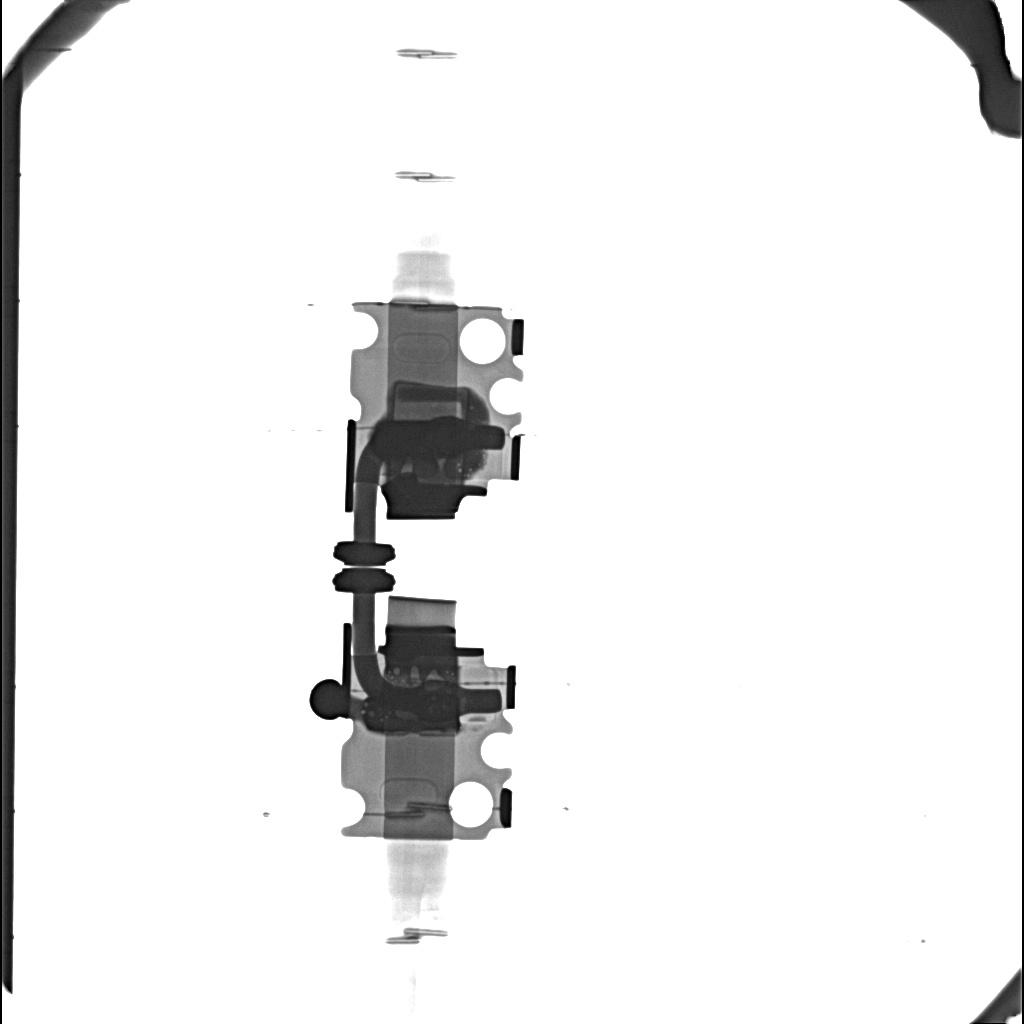气孔: (391, 382, 471, 419), (383, 727, 460, 738), (383, 658, 387, 676)
气泡: (425, 670, 444, 680), (409, 666, 418, 679), (401, 464, 413, 473), (392, 666, 400, 675)
水纹: (363, 686, 460, 730), (372, 422, 475, 458)
